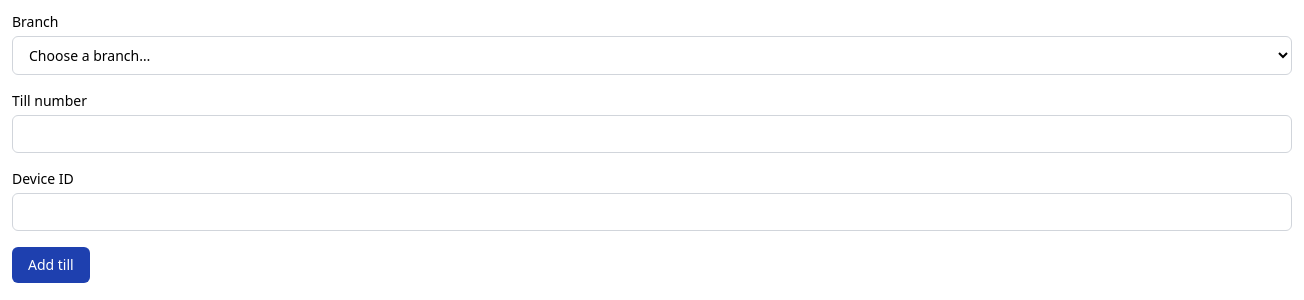
Test case: TillForm › submits the till and clears the fields
Select "High Street" in the dropdown labelled "Branch": (652, 56) [12,36,1292,75]
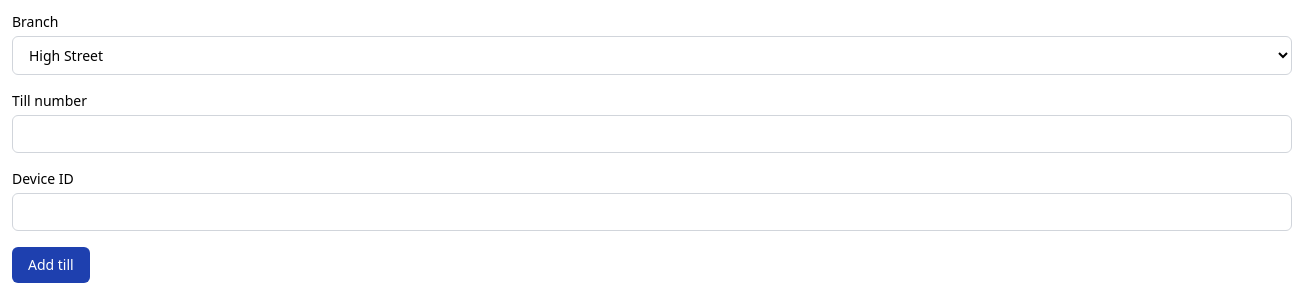
In the number field labelled "Till number": (652, 134) [12,115,1292,153], type "4"
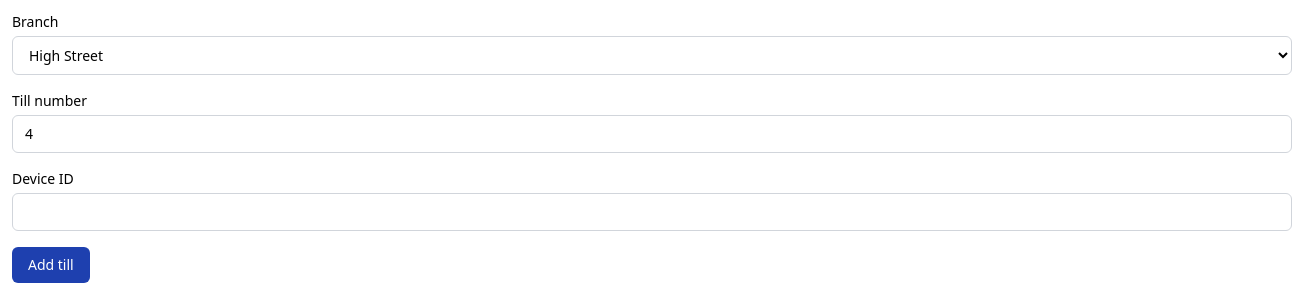
In the field labelled "Device ID": (652, 212) [12,193,1292,231], type " dev-4 "
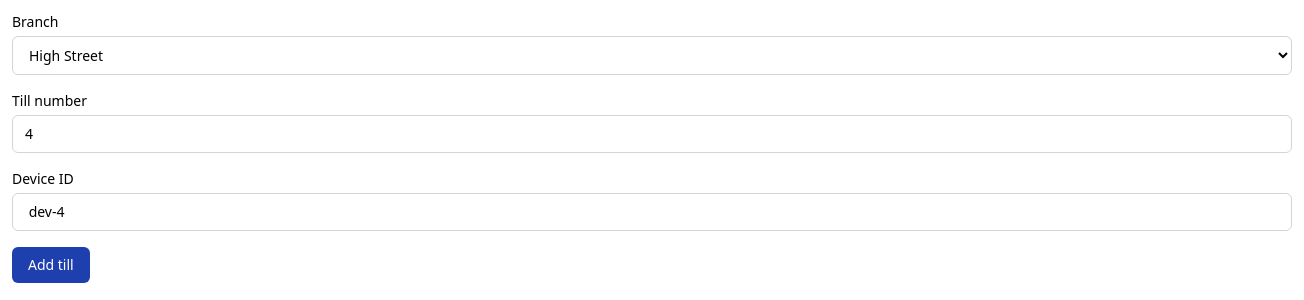
Click the button "Add till": click(51, 265) [12,247,90,283]
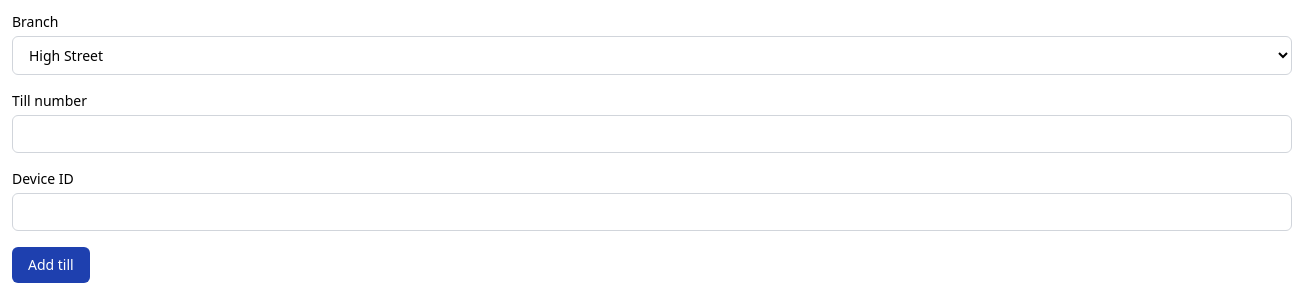
Now the number field labelled "Till number" is not empty, box [12,115,1292,153]
